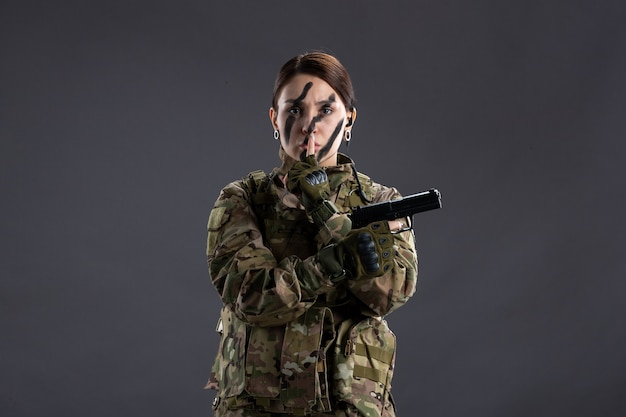gun: (326, 185, 443, 285)
